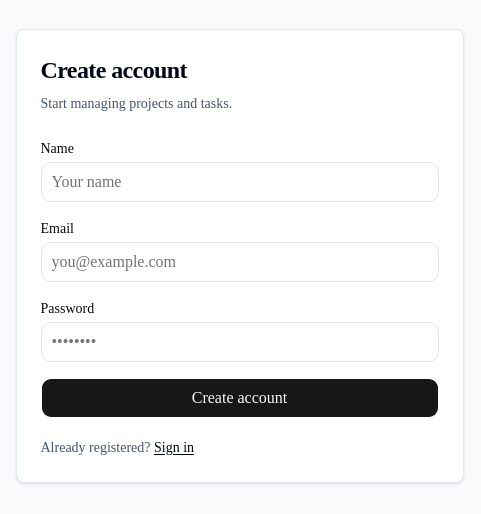
Test: RegisterForm › shows password validation error when password is too short
The image size is (481, 514).
Step 1. Type "Steve" into the field labelled "Name" → (240, 182), box [40, 162, 438, 202]
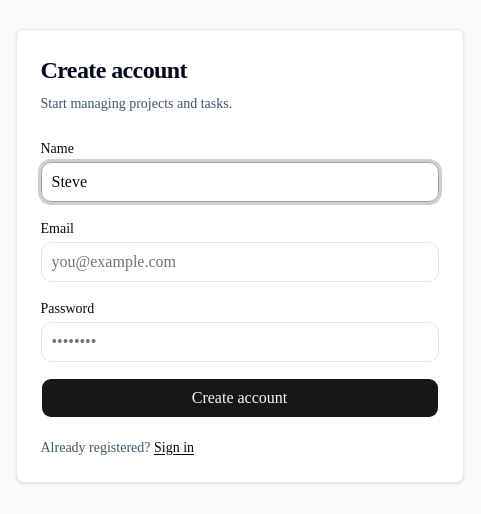
Step 2. Type "steve@example.com" into the field labelled "Email" → (240, 262), box [40, 242, 438, 282]
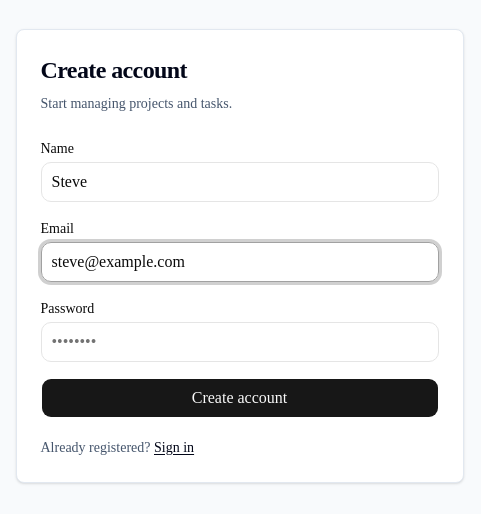
Step 3. Type "short" into the password field labelled "Password" → (240, 342), box [40, 322, 438, 362]
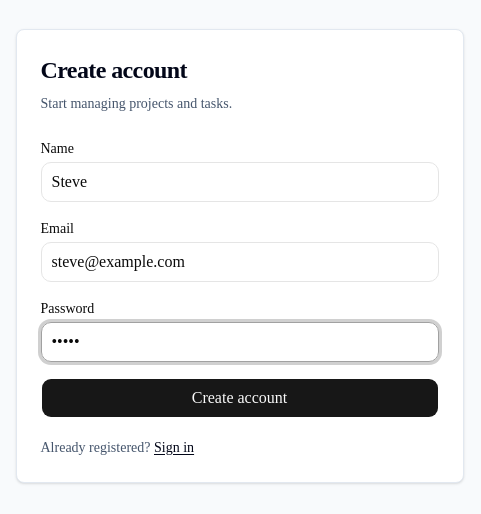
Step 4. Click the button "Create account" → (240, 398), box [40, 378, 438, 418]
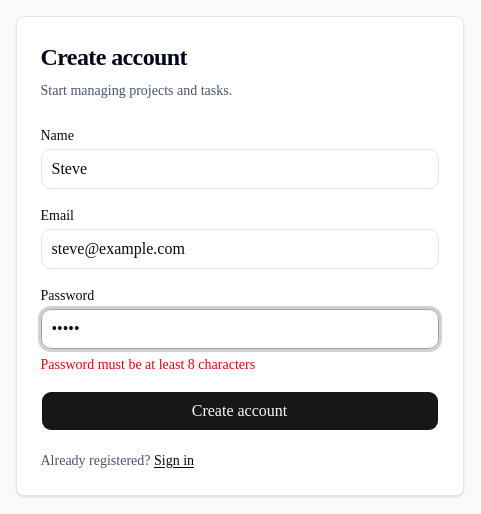
Result: the text "Password must be at least 8 characters" is shown at [40, 357, 255, 372]
